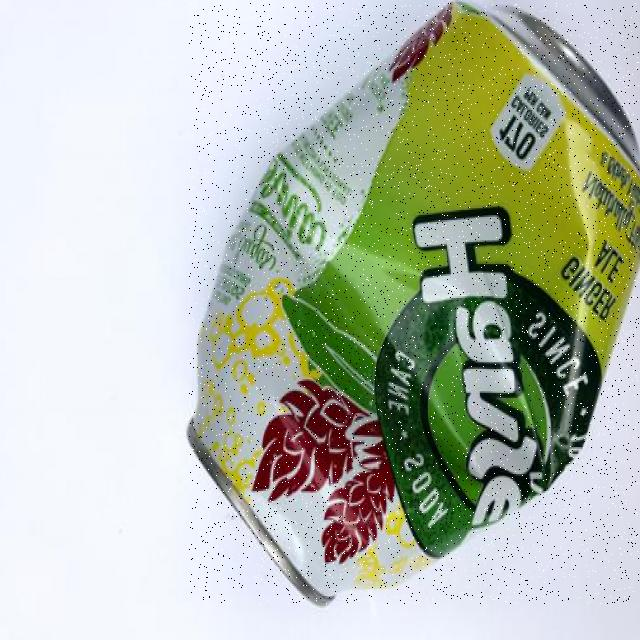metal: (189, 3, 640, 604)
